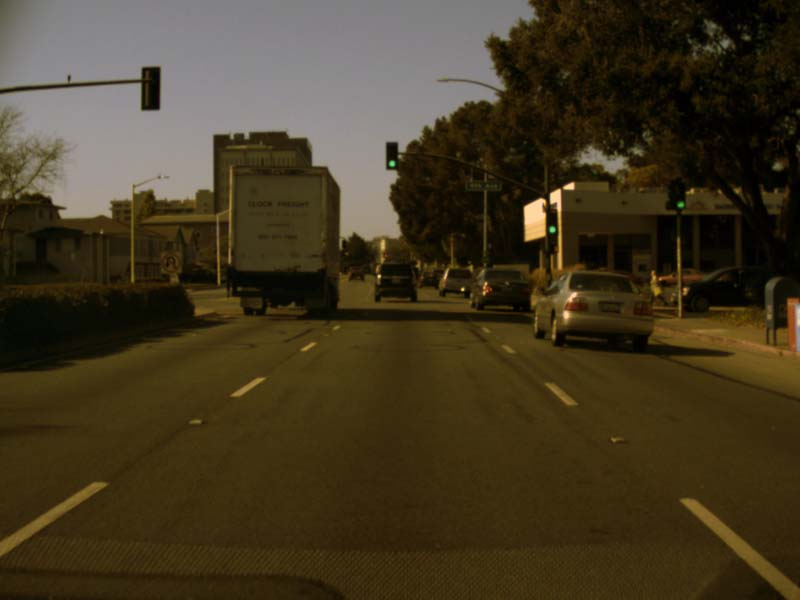Green: (385, 142, 397, 169), (675, 180, 686, 209), (547, 211, 556, 236)
